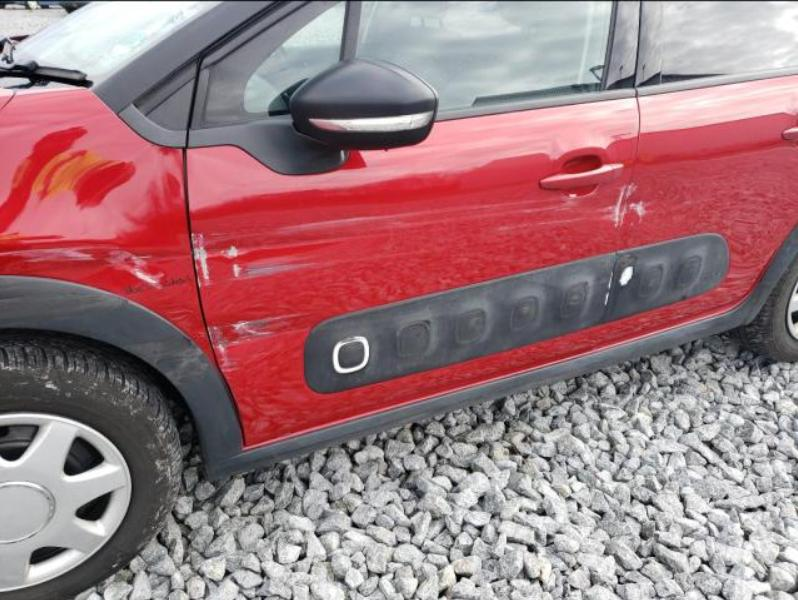Broken part: (179, 147, 195, 248)
Dent: (1, 126, 163, 289)
Paint chip: (121, 335, 212, 383), (327, 334, 373, 379), (121, 274, 191, 296), (617, 264, 637, 288), (603, 271, 614, 307)
Scratch: (192, 214, 417, 289), (493, 179, 652, 233), (209, 312, 313, 373), (89, 242, 165, 292)
